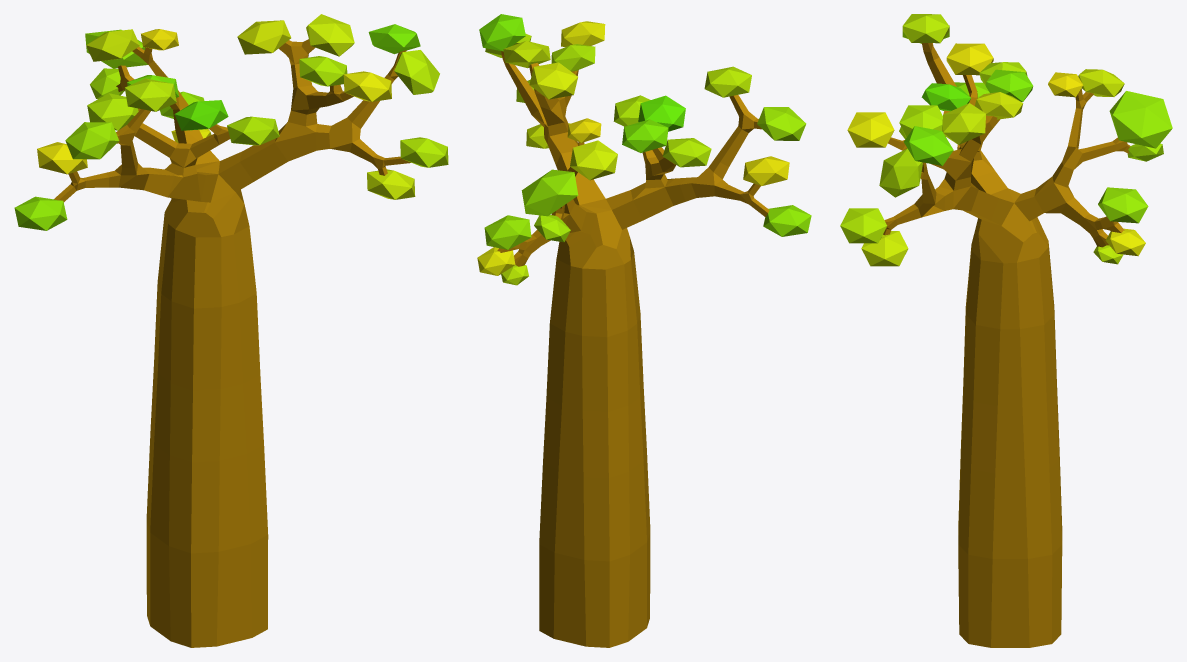
File: baobabNamu.glb
3 views of the same model, side by side, from view 1: azimuth 30°, elevation 25°; view 2: azimuth 150°, elevation 25°; view 3: azimuth 270°, elevation 25° (orthographic). The views are drawn at different scales.
Visible parts, largest first — view 1: Icosphere.021; view 2: Icosphere.021; view 3: Icosphere.021.
Part boxes in pixels (<box>): Icosphere.021: <box>14,14,448,647</box>; Icosphere.021: <box>477,14,811,647</box>; Icosphere.021: <box>840,14,1172,647</box>.
Size of the model in its own units: 6.82 by 10.12 by 5.41.
